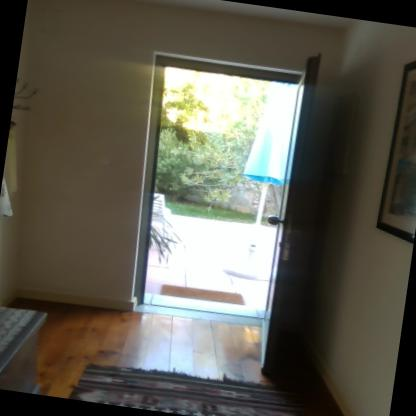open: (86, 38, 326, 376)
